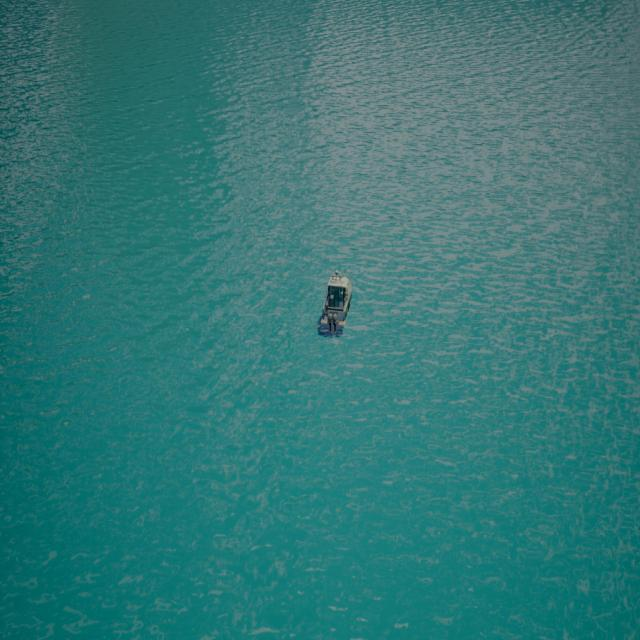ship: (314, 266, 356, 336)
